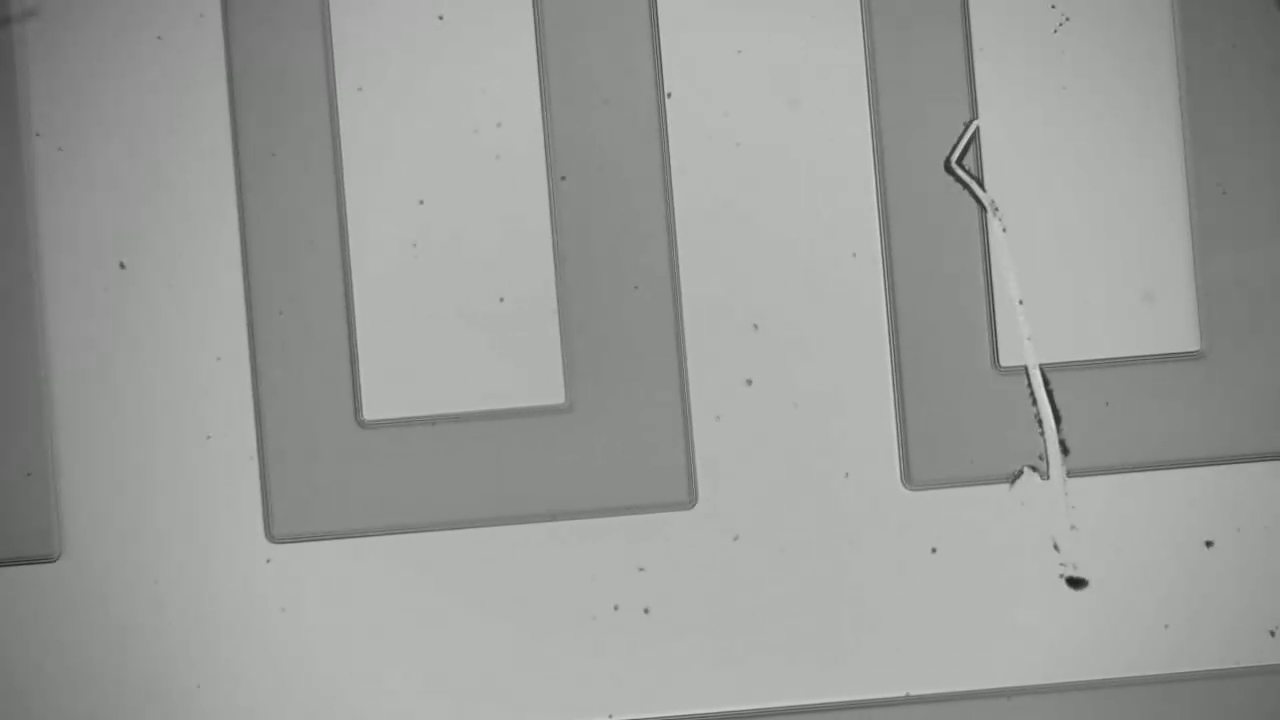Short_circuit: (1003, 330, 1086, 508)
